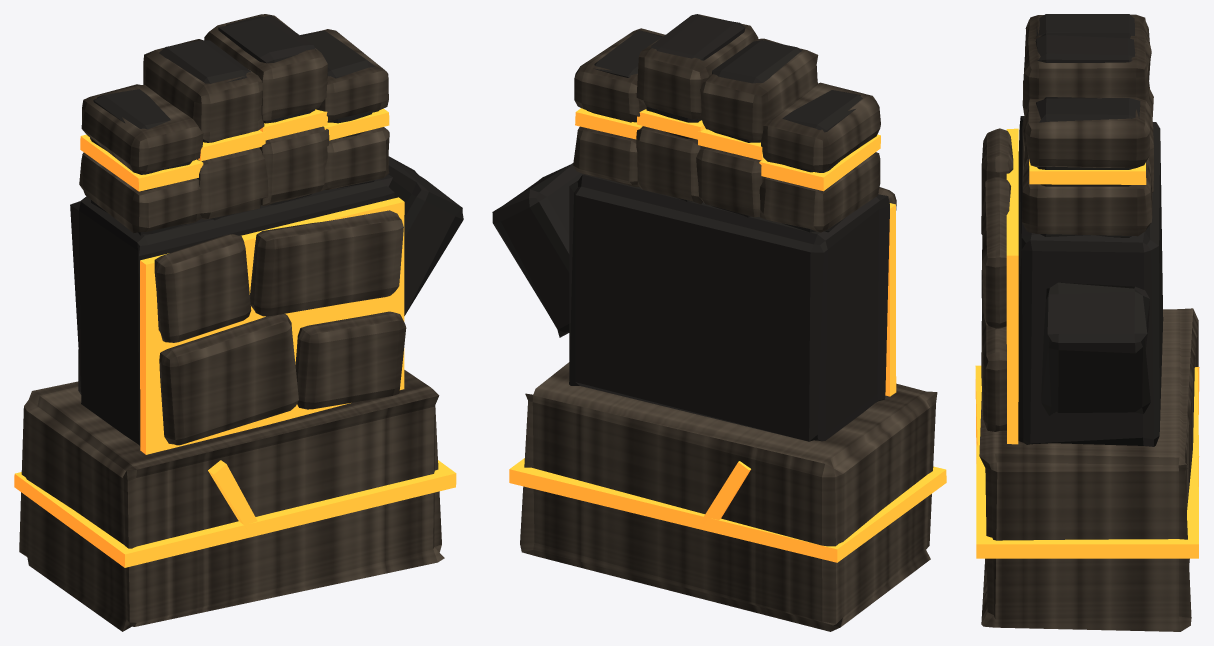
Rendered from magma_grips.glb.
The picture shows the model from 3 angles, left to right: view 1: azimuth 30°, elevation 25°; view 2: azimuth 150°, elevation 25°; view 3: azimuth 270°, elevation 25°; orthographic projection.
Visible parts, largest first — view 1: MagmaGrips; view 2: MagmaGrips; view 3: MagmaGrips.
Boxes of the visible parts, x1,y1,x2,y2 form: MagmaGrips: (14,14,463,631); MagmaGrips: (492,14,946,631); MagmaGrips: (975,14,1199,631).
Bounding box in the file's own units: 0.4113 × 0.5446 × 0.209.
3 materials, 1 textured.
